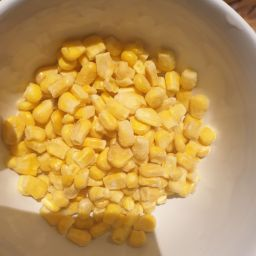Corn Kernel: (107, 28, 219, 243), (48, 30, 151, 256), (6, 93, 233, 192), (3, 48, 56, 237)
